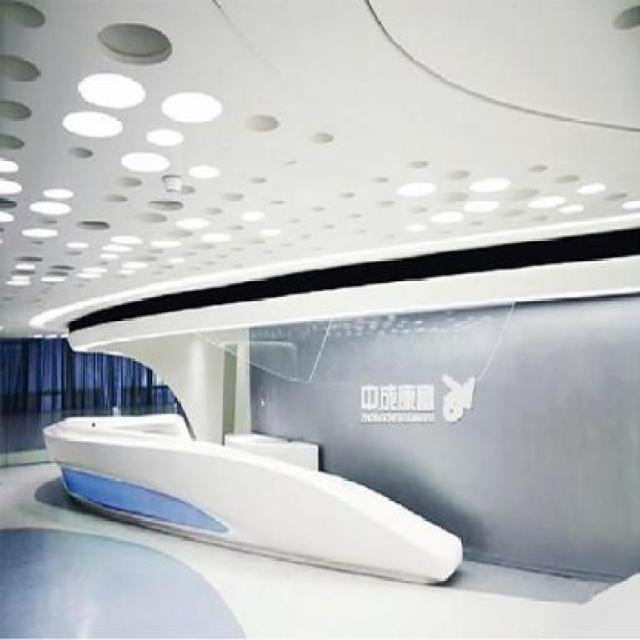frontdesk: (38, 408, 466, 594)
